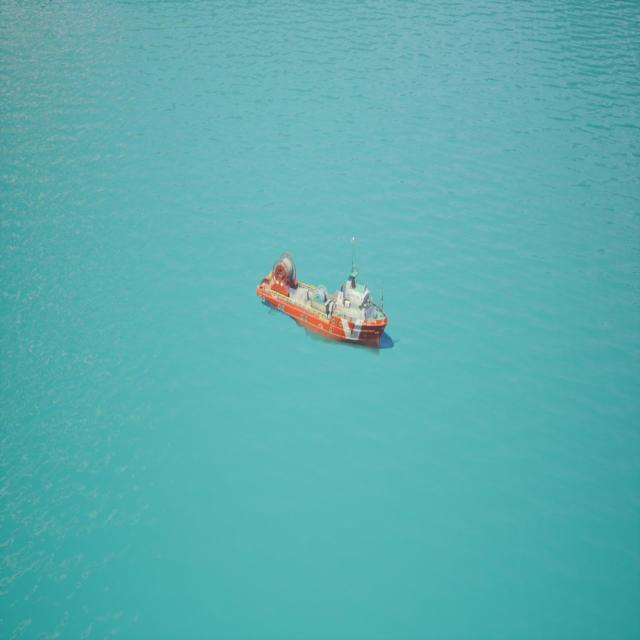tug boat: (265, 222, 400, 380)
